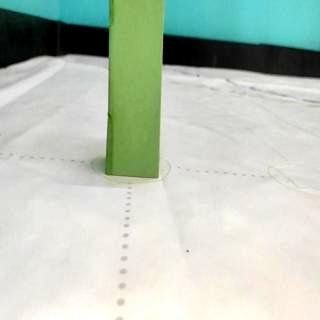greenbox: (105, 2, 165, 181)
